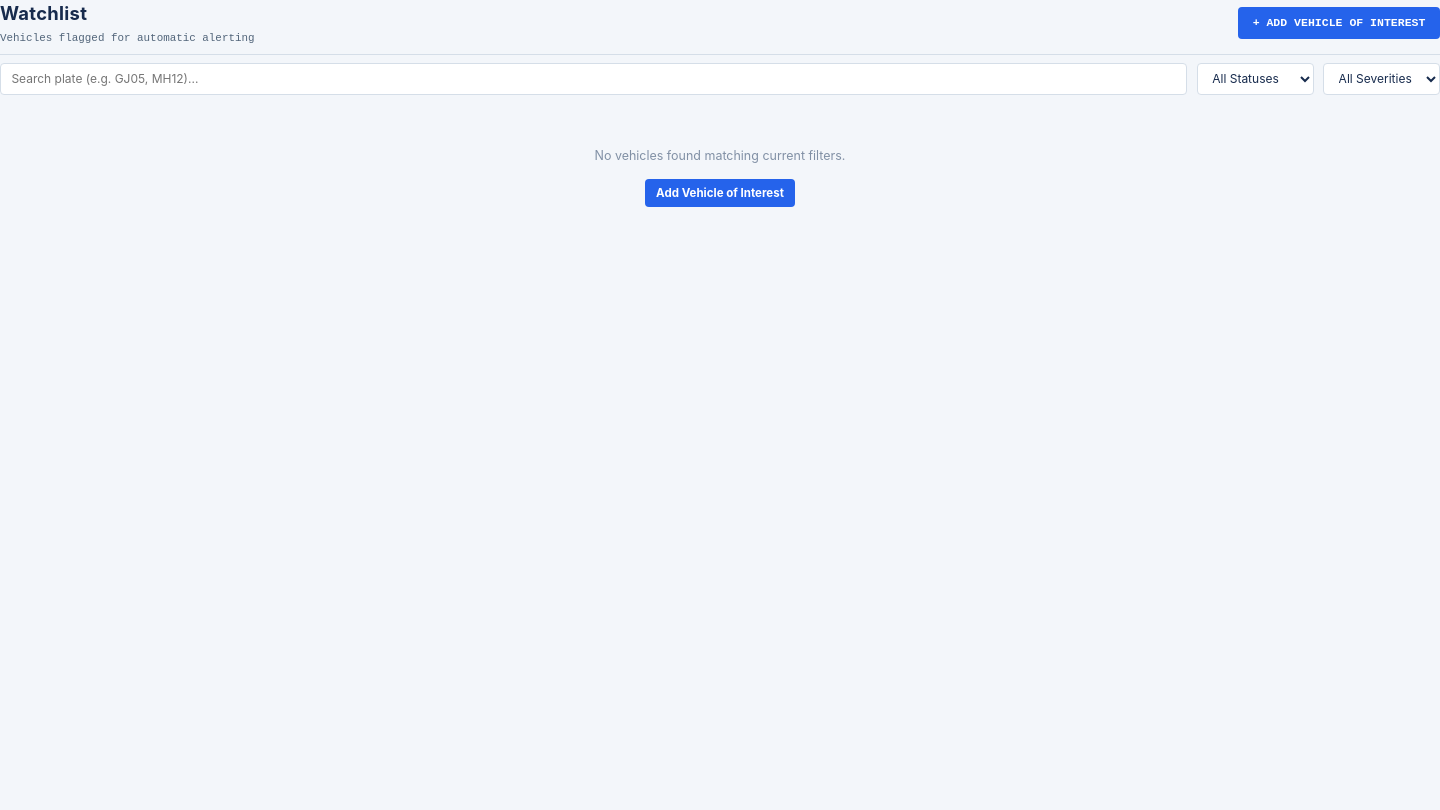
Test: WatchlistManager Component Tests › 4: Add modal opens and submits new entry to POST /api/watchlist
This screenshot has width=1440, height=810.
expect the text "No vehicles found matching current filters." is shown: met, box [595,148,846,163]
// Click Add button
Click the button "+ ADD VEHICLE OF INTEREST" at (1339, 23), box [1238,7,1439,39]
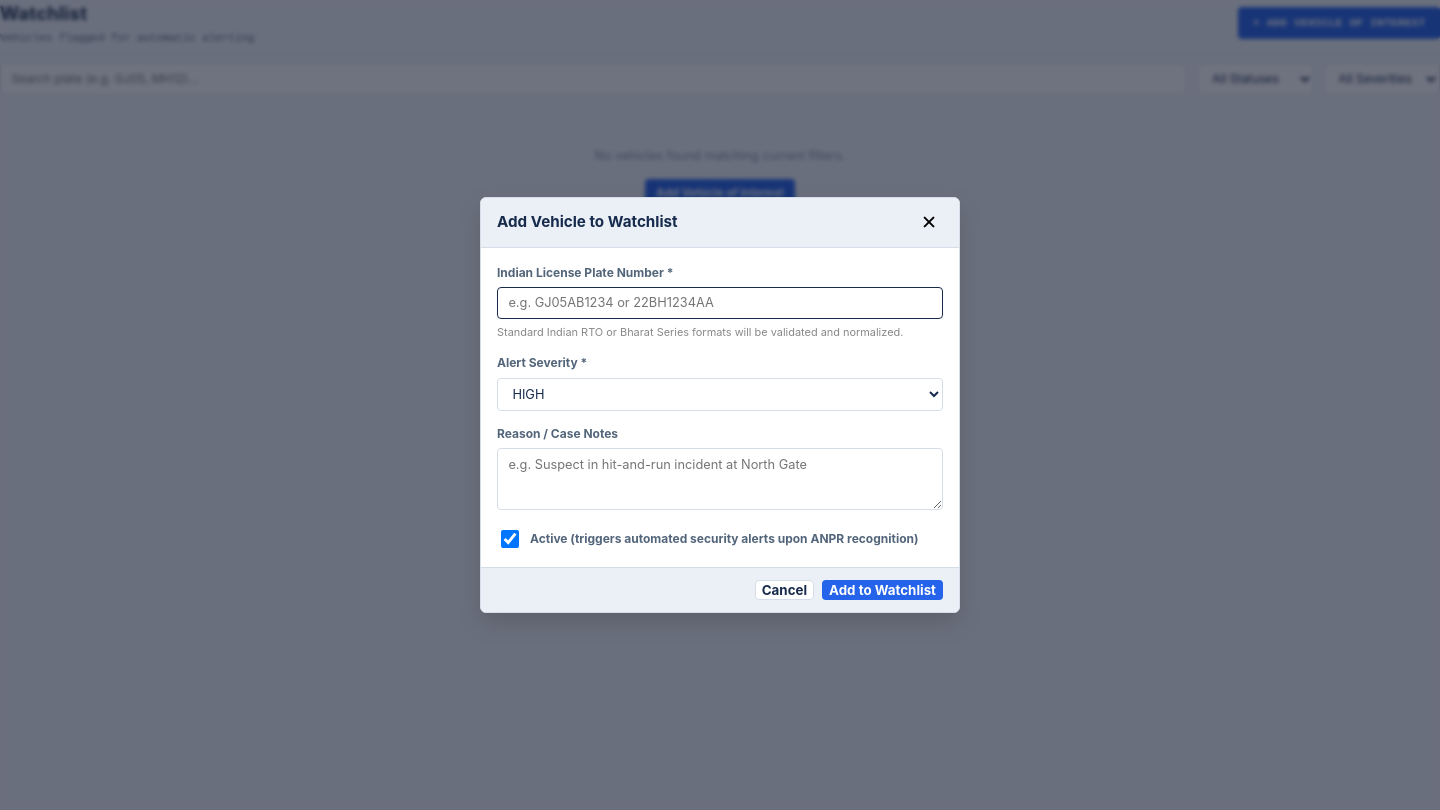
expect the heading "Add Vehicle to Watchlist" is shown: met, box [497,211,678,234]
// Fill form
Type "DL01A9999" into the field labelled "Indian License Plate Number *" at (720, 303), box [497,287,943,319]
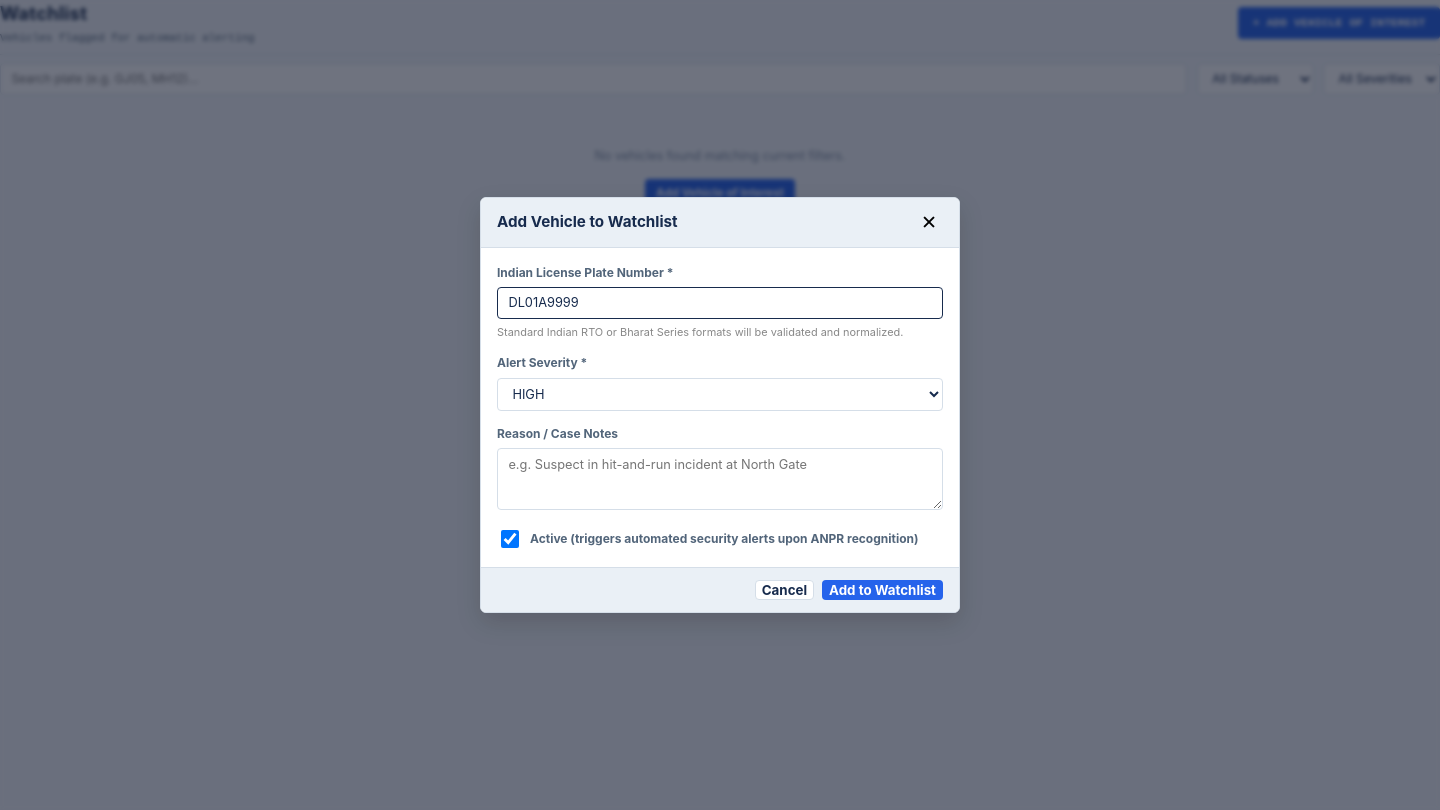
Type "Stolen sedan" into the text box labelled "Reason / Case Notes" at (720, 479), box [497,448,943,510]
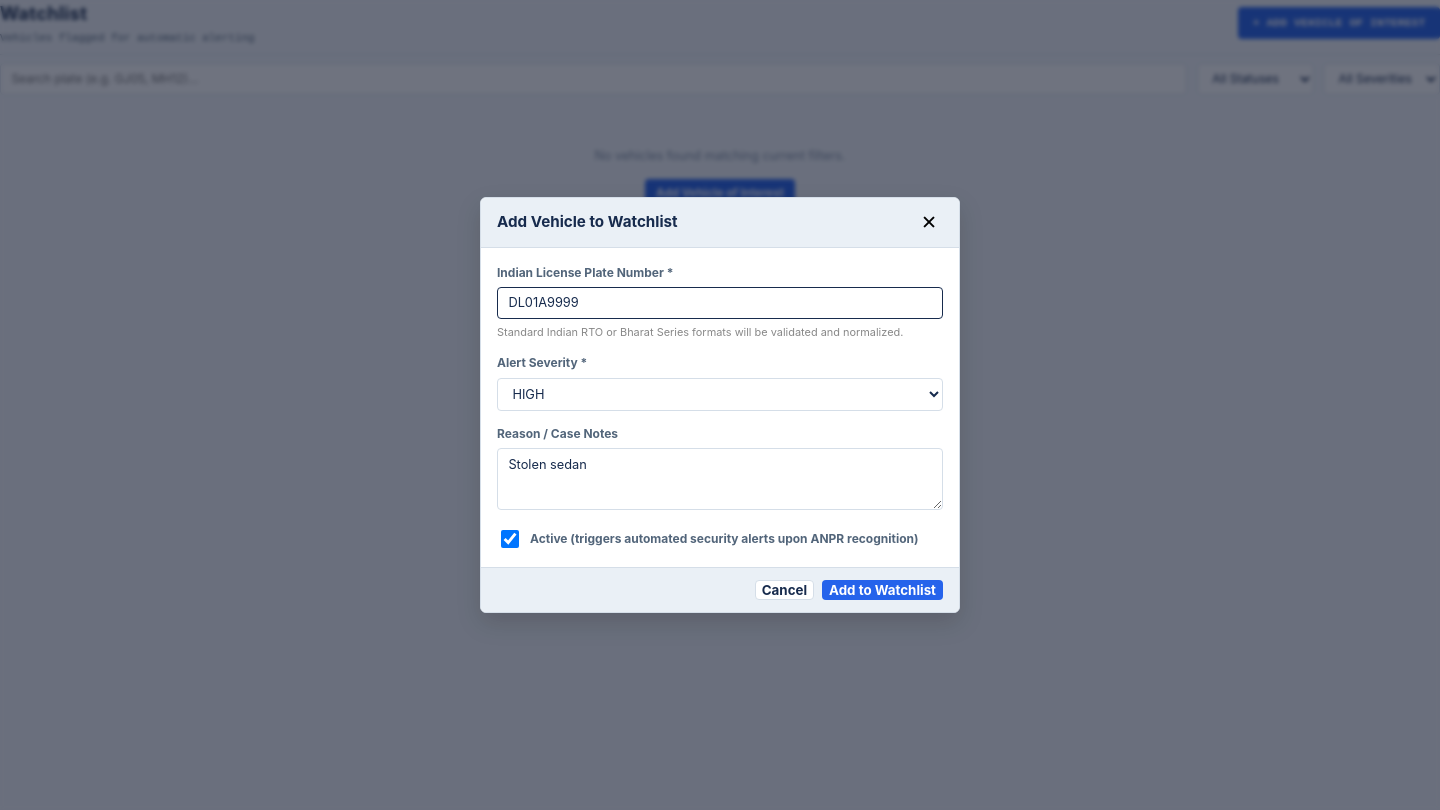
Click the button "Add to Watchlist" at (882, 590), box [822,580,943,600]
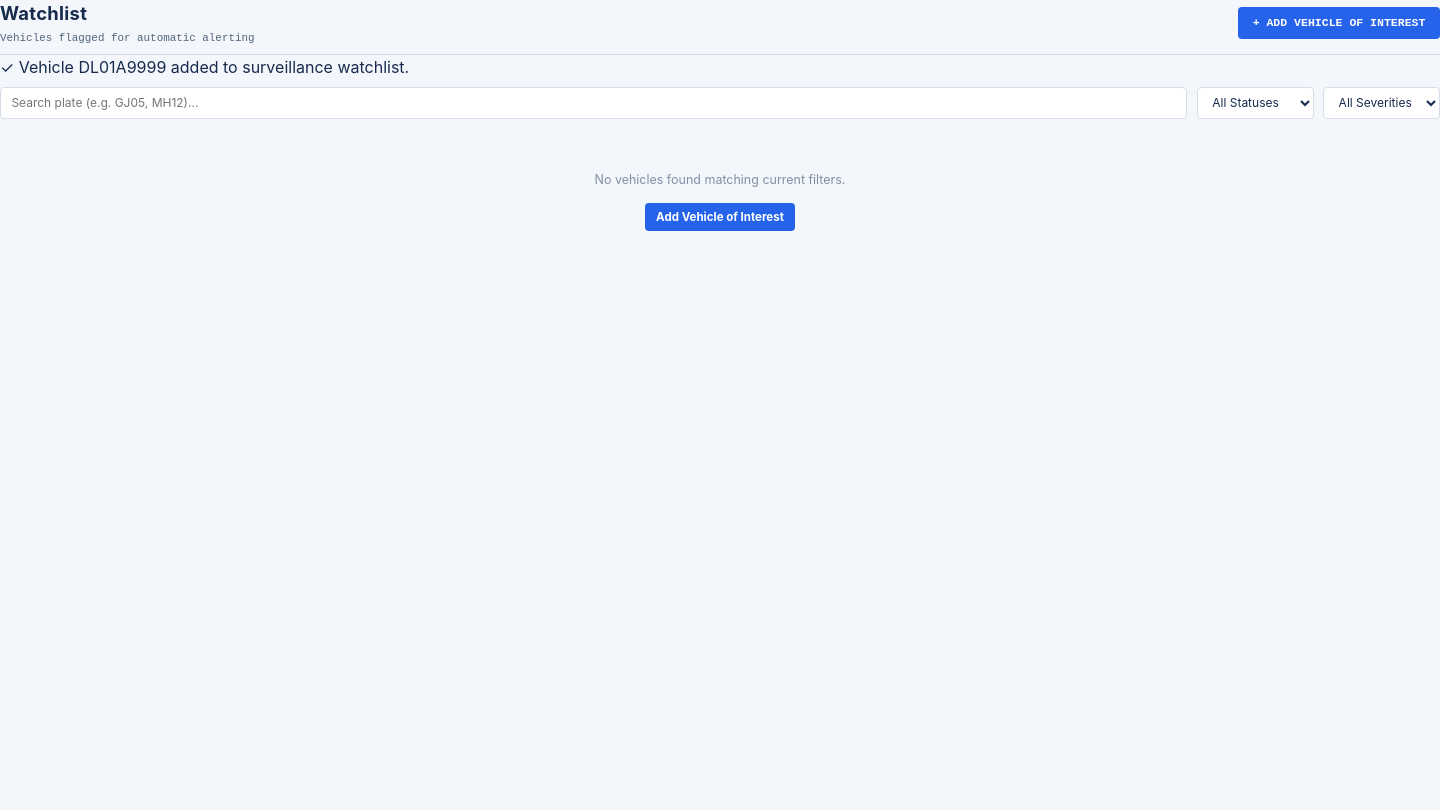
expect the text "✓ Vehicle DL01A9999 added to surveillance watchlist." is shown: met, box [0,57,409,77]
